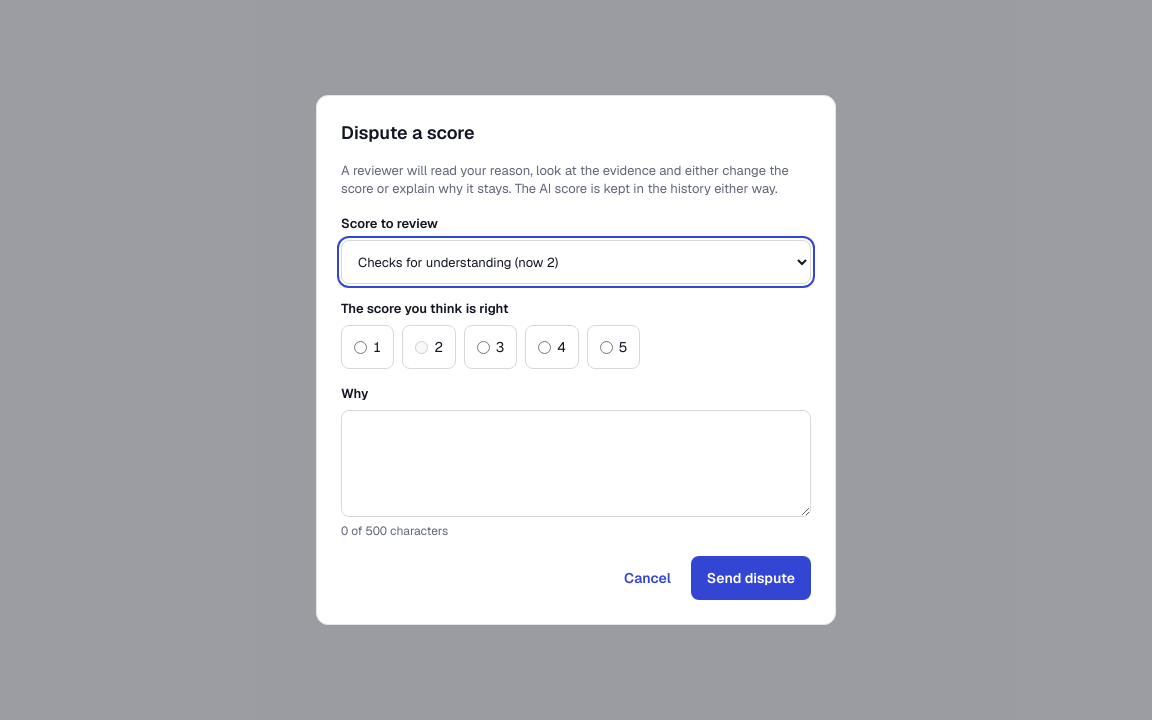
Test: DisputeDialog › needs a reason before sending
The width and height of the screenshot is (1152, 720).
Click the radio button labelled "3" at [483, 347], box [477,340,490,354]
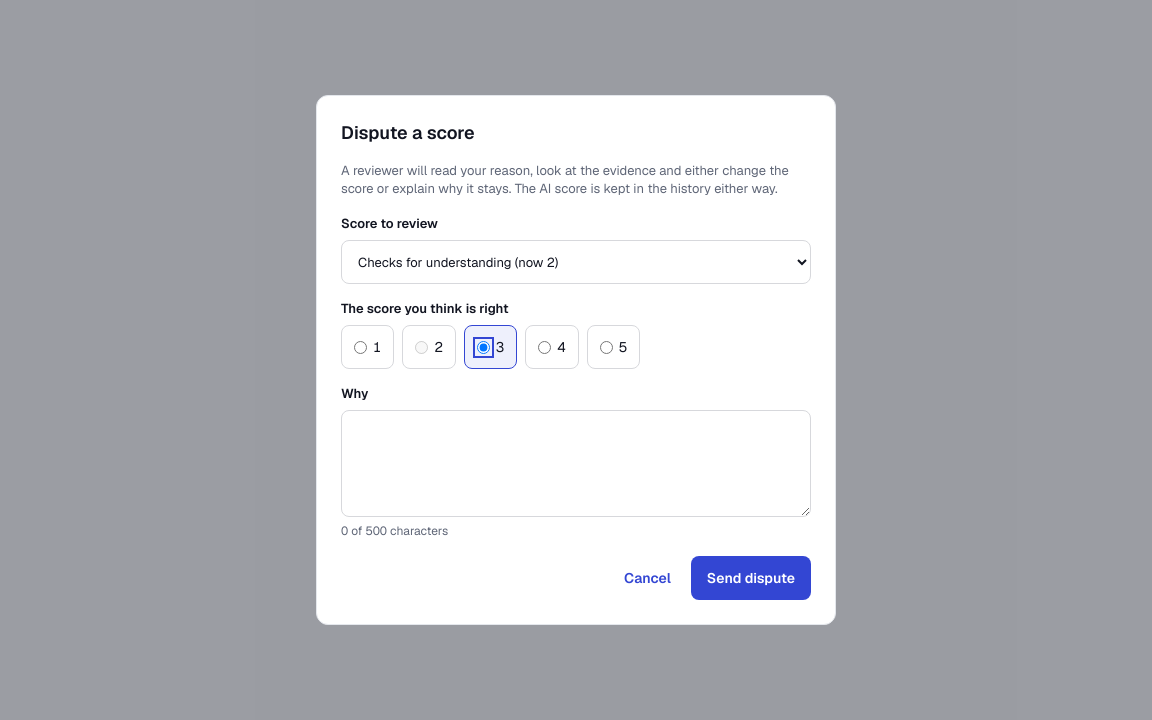
Type "too short" into the text box labelled "Why" at [576, 464], box [341,410,811,517]
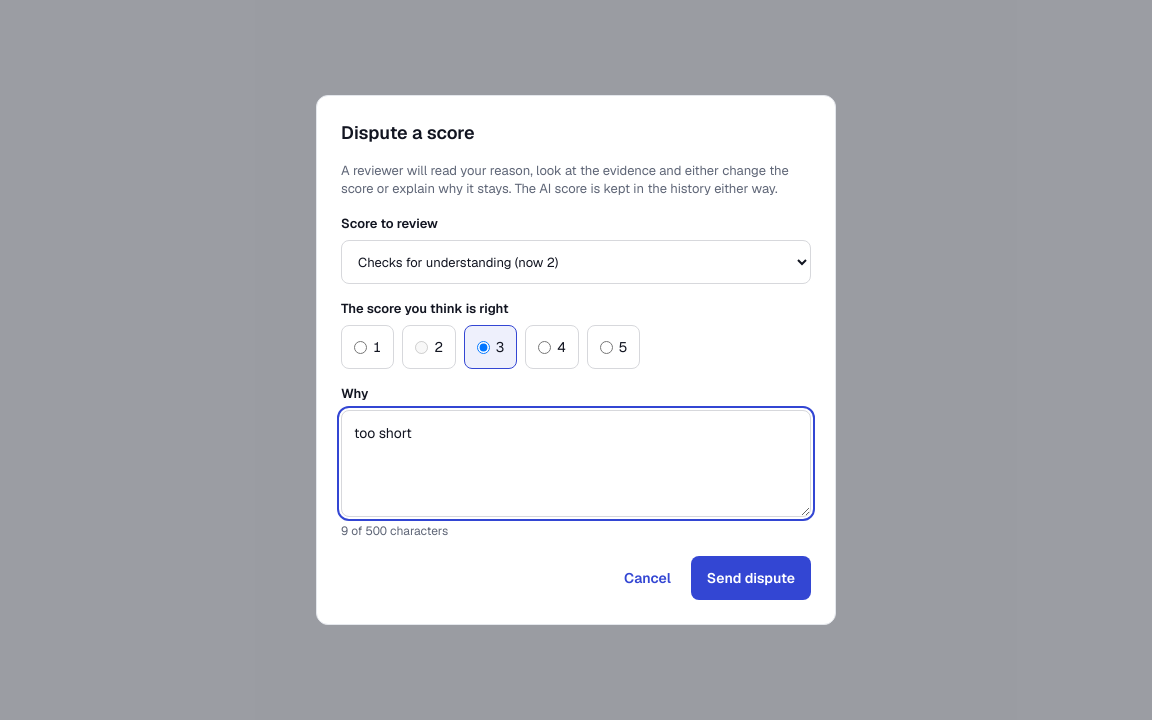
Click the button "Send dispute" at [751, 578], box [691,556,811,600]
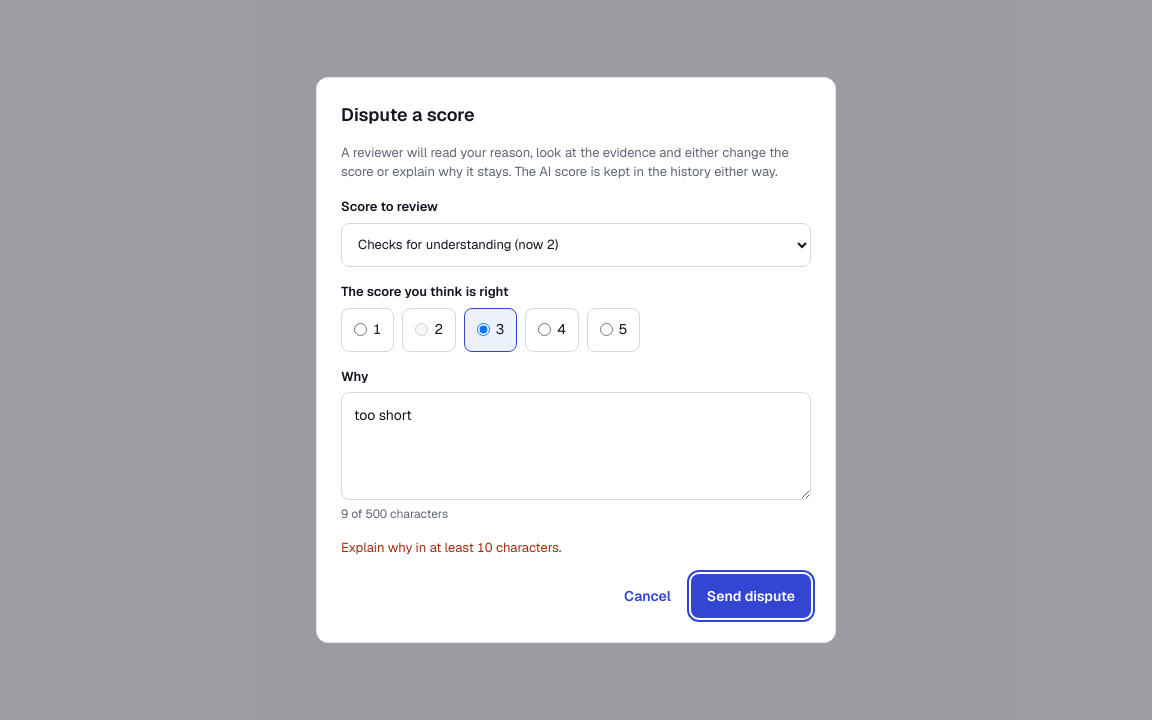
Check: the message shows "at least 10 characters", box [341,539,562,556]
